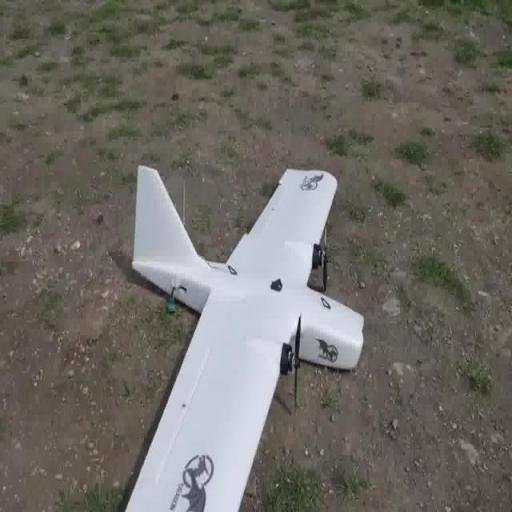uav: (125, 153, 367, 512)
